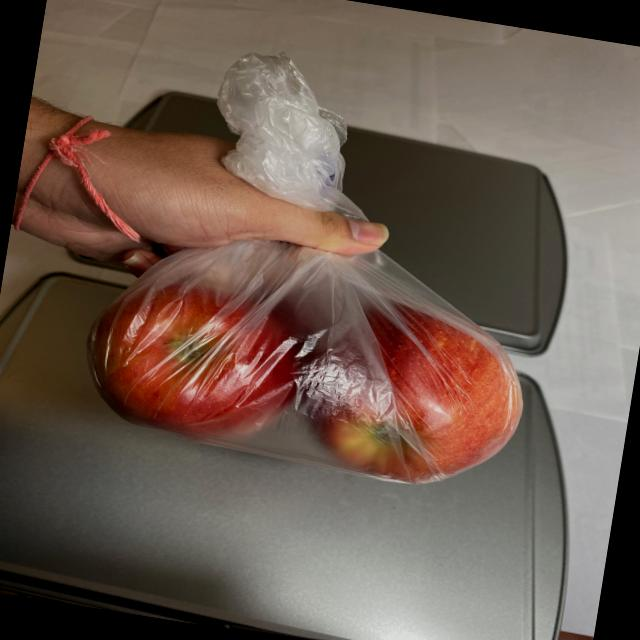apple: (67, 256, 547, 504)
